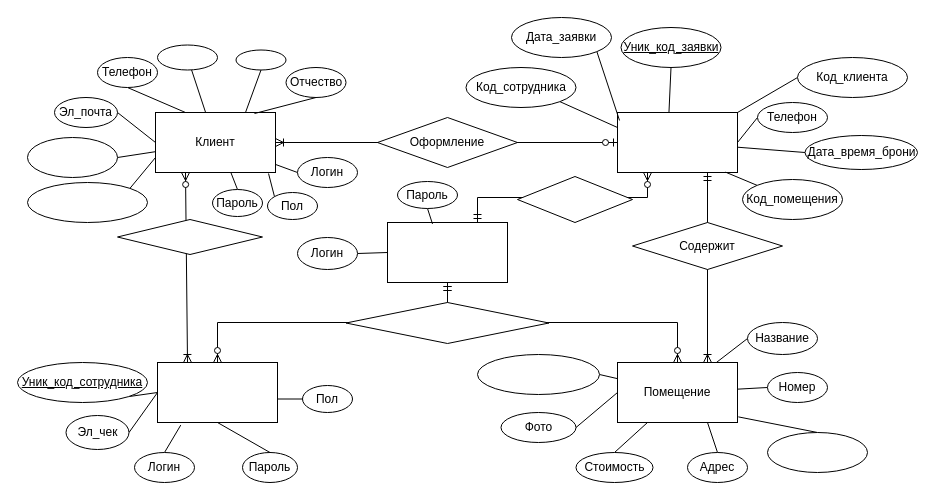
Image size: 935x500. Some labels were removed from this diagram. The shapes that lost their labels are listed below. From the top down, each one's centre as x and y in pixels, then its label:
the point at 187,57: Фамилия
the point at 260,59: Имя
the point at 72,157: Дата_рождения
the point at 677,142: Заявка
the point at 87,202: Уник_код_клиента
the point at 574,199: Просматривает
the point at 189,236: Записывает
the point at 447,252: Администратор
the point at 447,323: Управляет
the point at 217,392: Сотрудник
the point at 538,374: Уник_код_помещения
the point at 817,452: Вместительность
